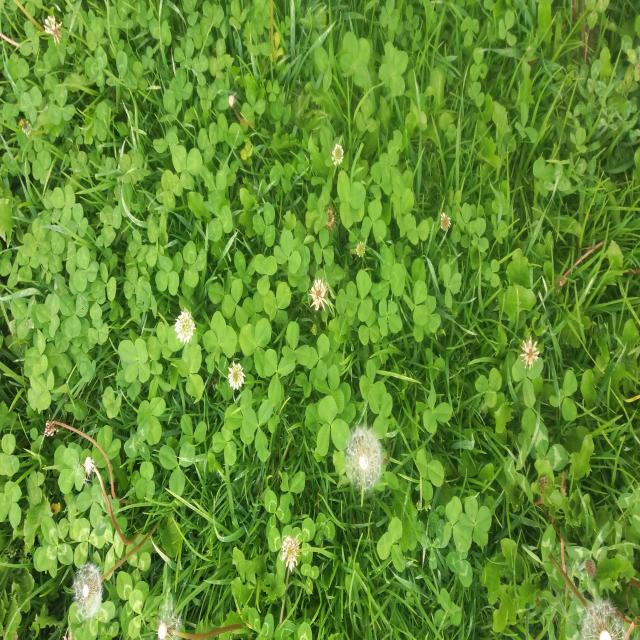Four Leaf Clover: (378, 41, 408, 98), (340, 31, 370, 87), (118, 338, 150, 384)
